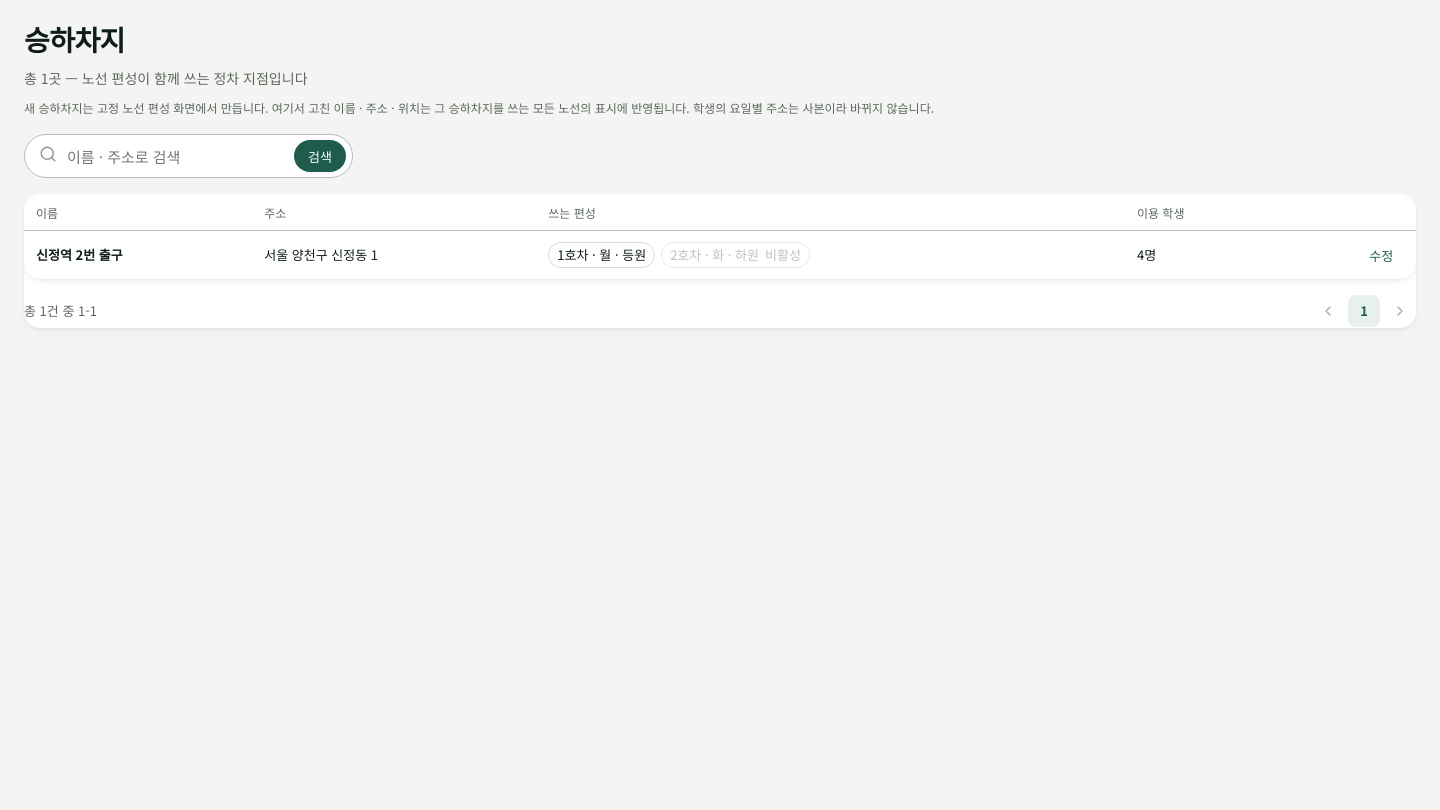
Scenario: StopManagement — 수정 › 이름만 고치면 PATCH 에 이름만 싣고, 저장되면 양식을 닫고 목록을 다시 읽는다
Click the button "수정". click: (1381, 255)
box: [1358,241,1404,269]
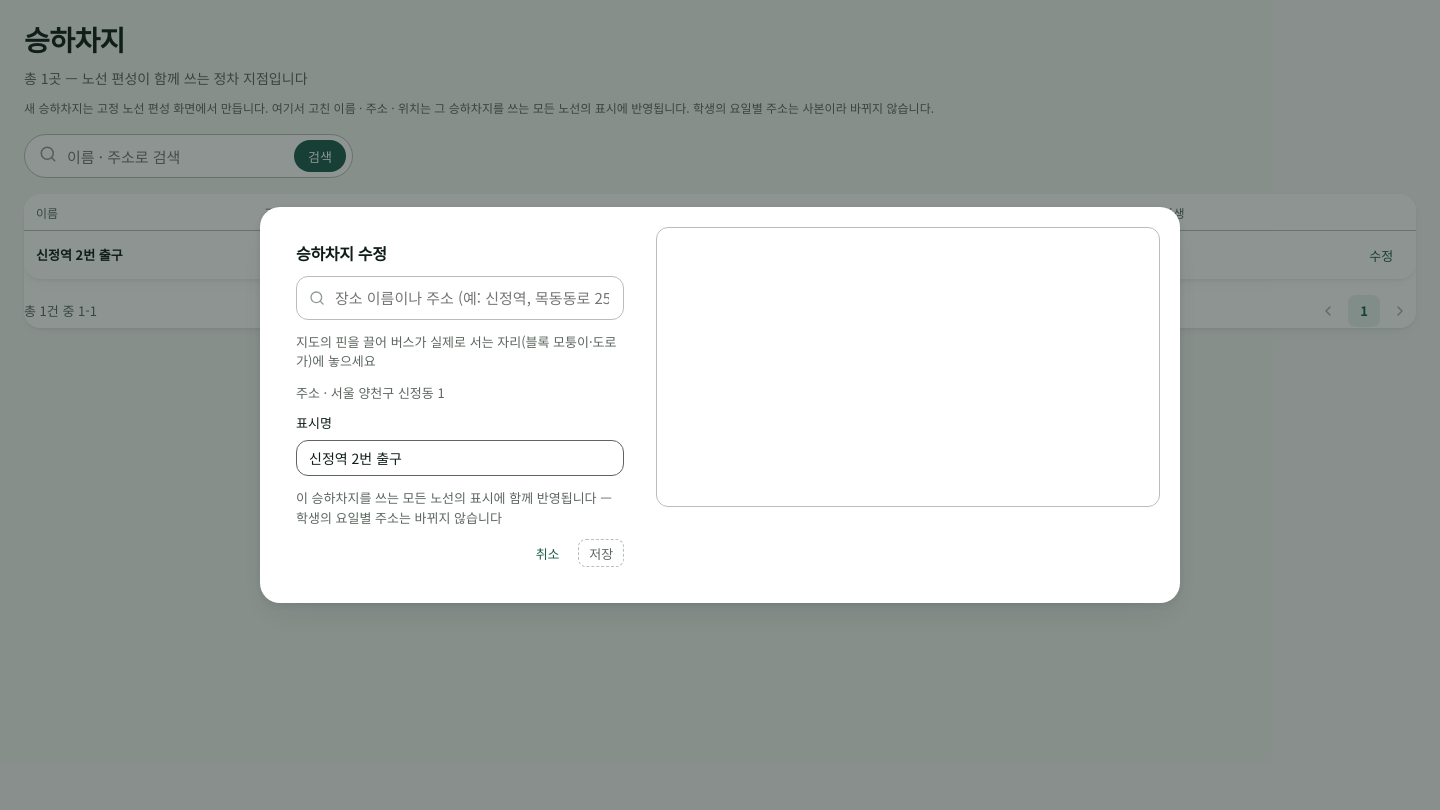
Replace the text in the field labelled "표시명" with "신정역 1번 출구". click: (460, 458)
box: [296,440,624,476]
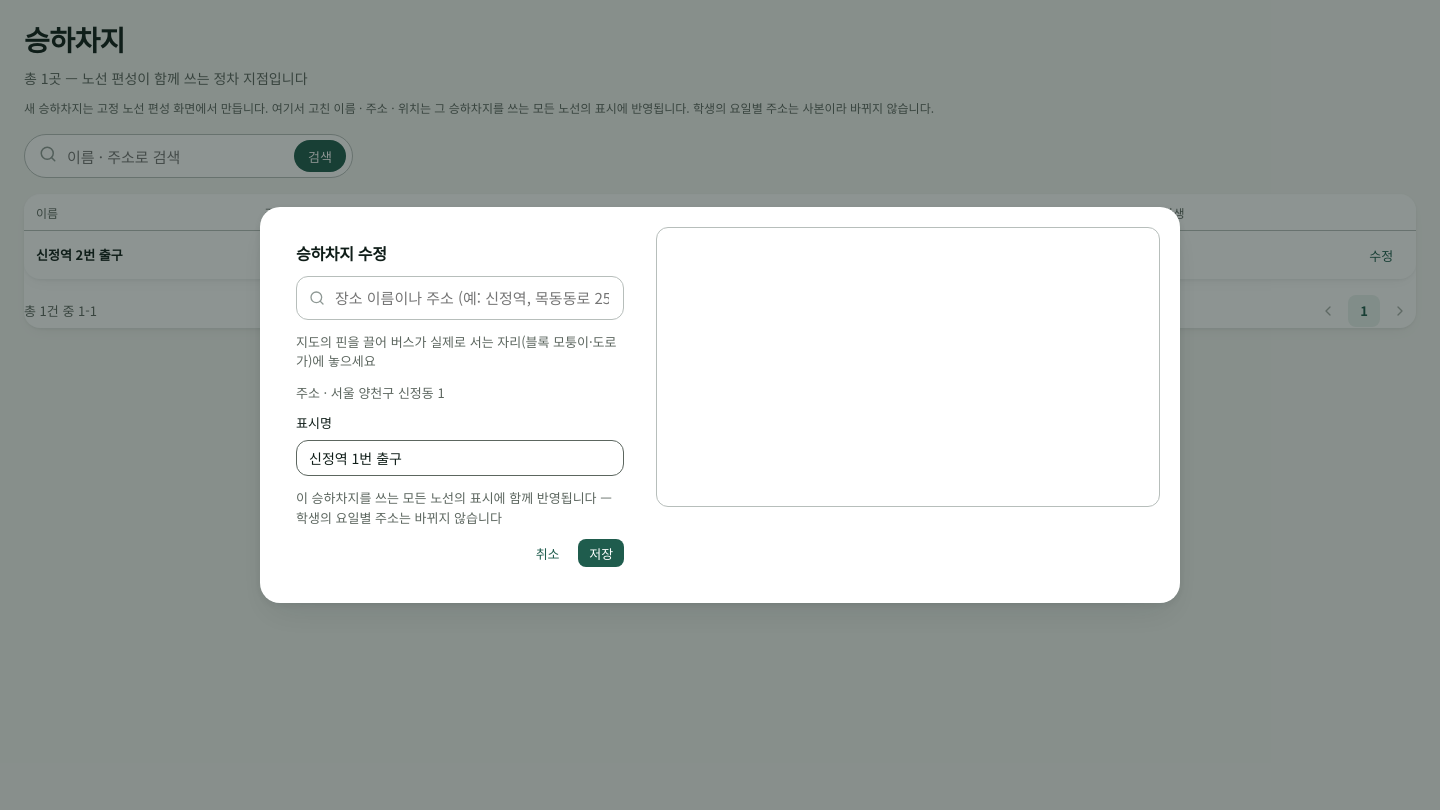
Click the button "저장". click: (601, 553)
box: [578,539,624,567]
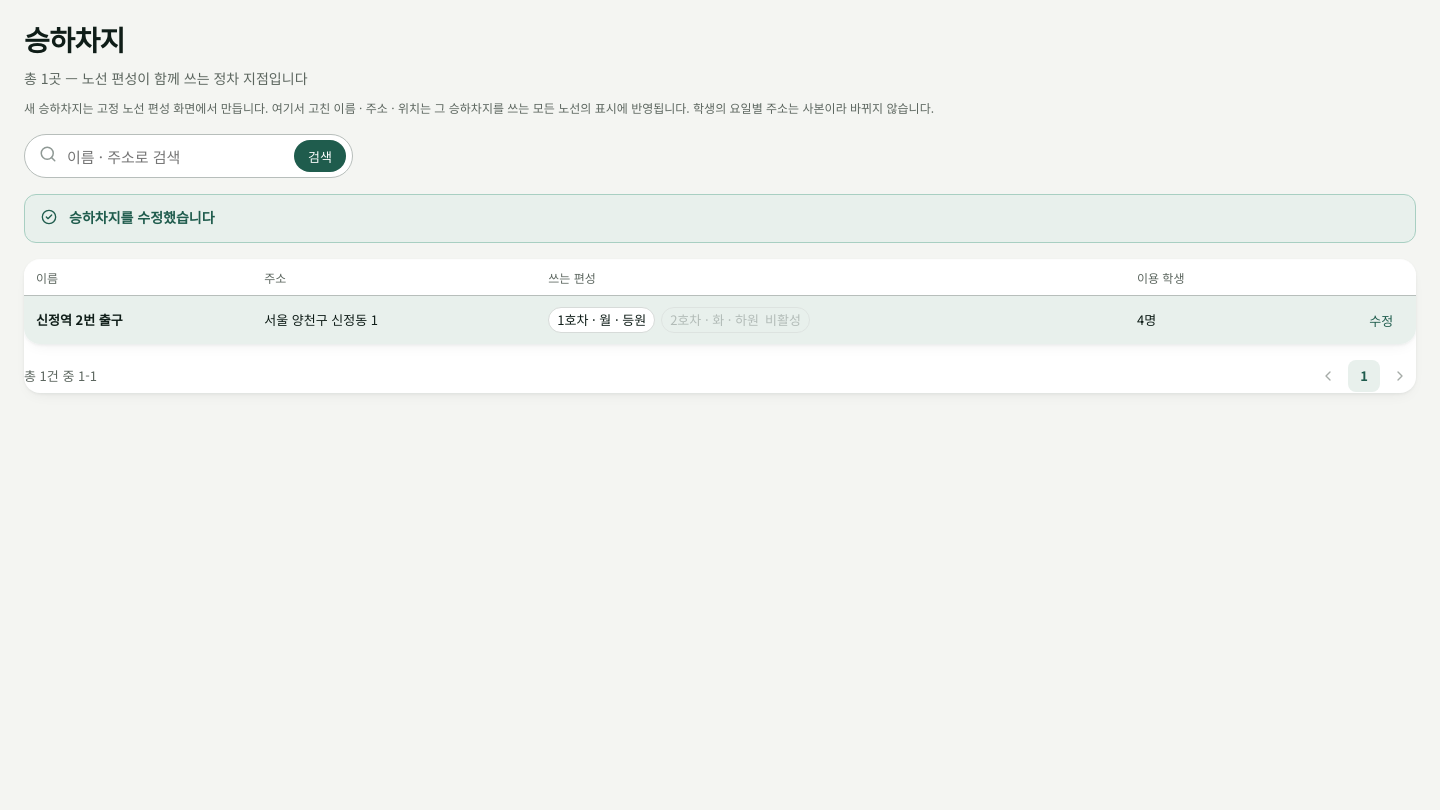
Expected: the dialog is gone
